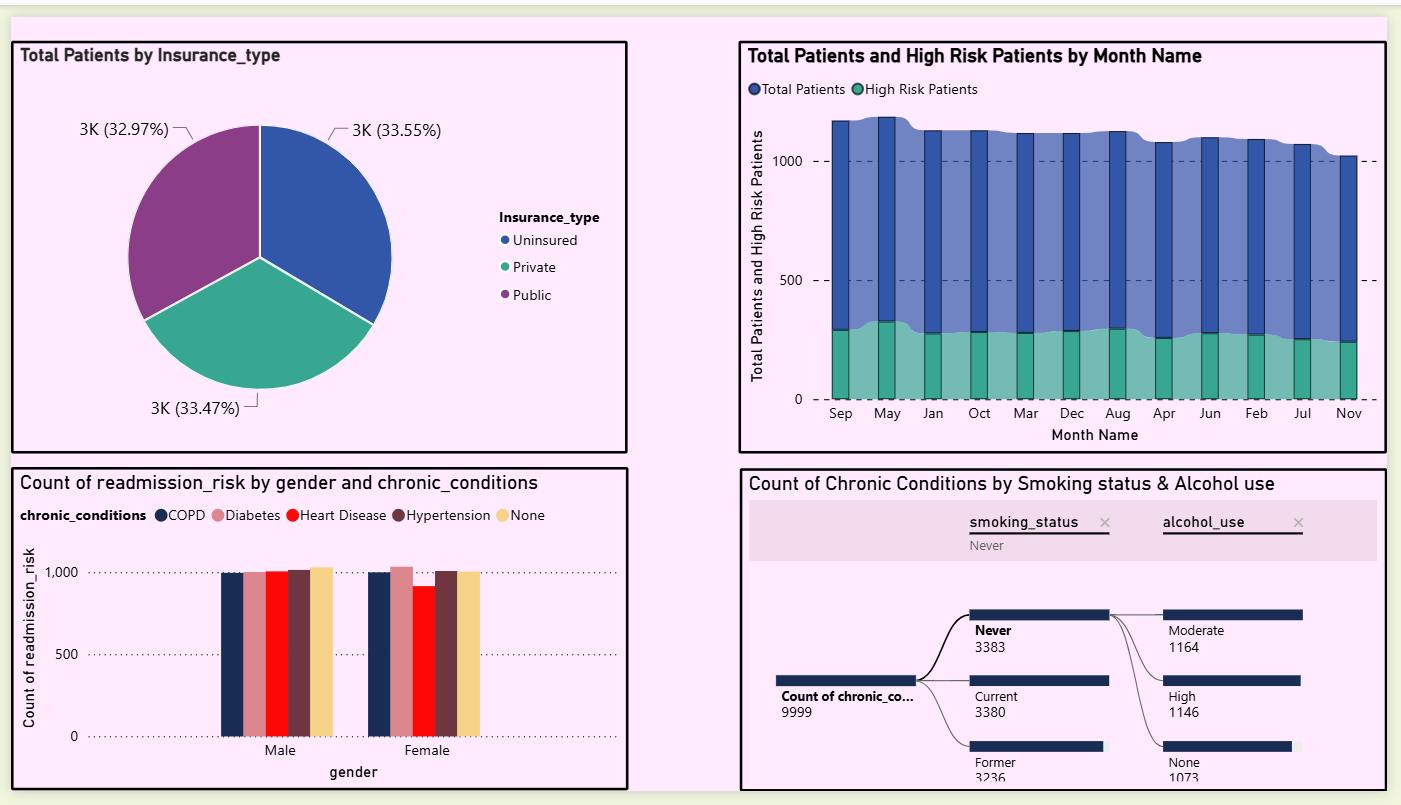

What the dashboard file says about the page in this screenshot:
{"tool":"powerbi","page":{"name":"Analysis","canvas":[1280,720],"ordinal":1},"visuals":[{"type":"ribbonChart","fields":{"Category":["Dim_Calendar.Month Name"],"Y":["Table.Total Patients","Table.High Risk Patients"]},"box":[676.8,21.7,602.9,384],"z":0},{"type":"decompositionTreeVisual","title":"Count of Chronic Conditions by Smoking status & Alcohol use","fields":{"Analyze":["CountNonNull(hospital_readmission_risk_10000.chronic_conditions)"],"ExplainBy":["hospital_readmission_risk_10000.smoking_status","hospital_readmission_risk_10000.alcohol_use"]},"box":[678,419.8,602,300.4],"z":1},{"type":"pieChart","title":"Total Patients by Insurance_type","fields":{"Category":["hospital_readmission_risk_10000.insurance_type"],"Y":["Table.Total Patients"]},"box":[0,22,573.5,384],"z":2},{"type":"clusteredColumnChart","fields":{"Category":["hospital_readmission_risk_10000.gender"],"Series":["hospital_readmission_risk_10000.chronic_conditions"],"Y":["CountNonNull(hospital_readmission_risk_10000.readmission_risk)"]},"box":[0,419,574,301],"z":3}]}

Visuals, with their boxes in screenshot pixels (x1, y1, x2, y2), scaled from the page's 1280x720 canvas onto the 1401x805 screenshot:
ribbonChart - Dim_Calendar.Month Name x Table.Total Patients: crop(741, 24, 1400, 454)
"Count of Chronic Conditions by Smoking status & Alcohol use" decompositionTreeVisual: crop(742, 469, 1400, 804)
"Total Patients by Insurance_type" pieChart: crop(0, 25, 628, 454)
clusteredColumnChart - hospital_readmission_risk_10000.gender x hospital_readmission_risk_10000.chronic_conditions: crop(0, 468, 628, 804)
